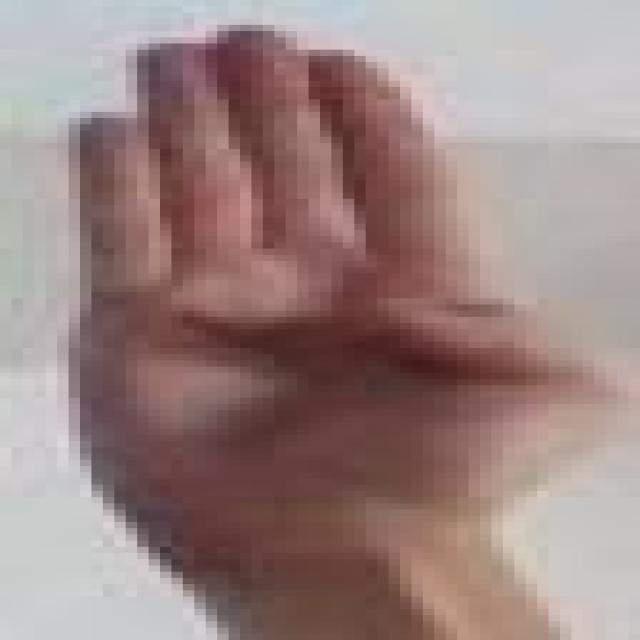B: (33, 27, 627, 582)
